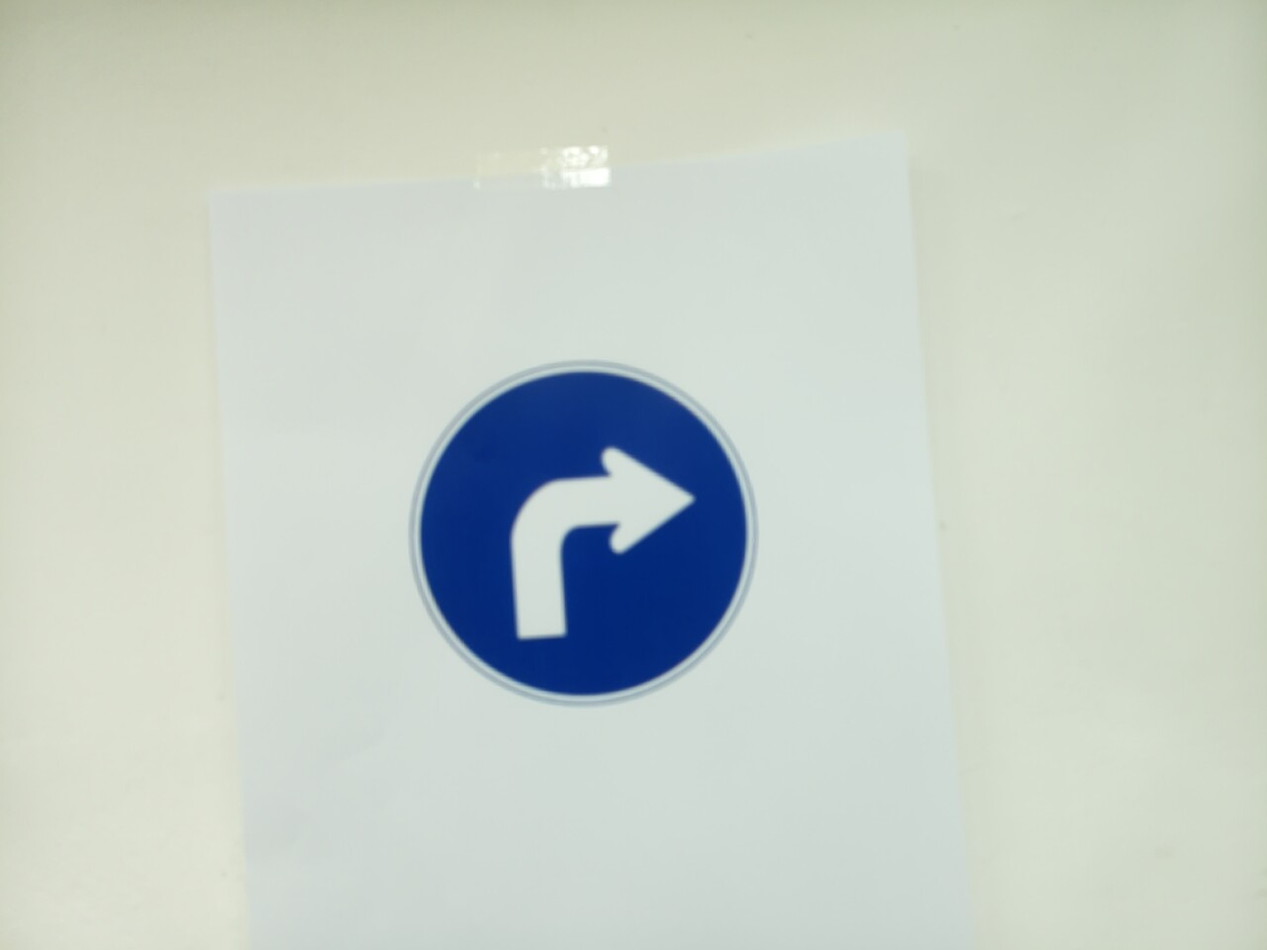right_turn: (410, 361, 757, 706)
